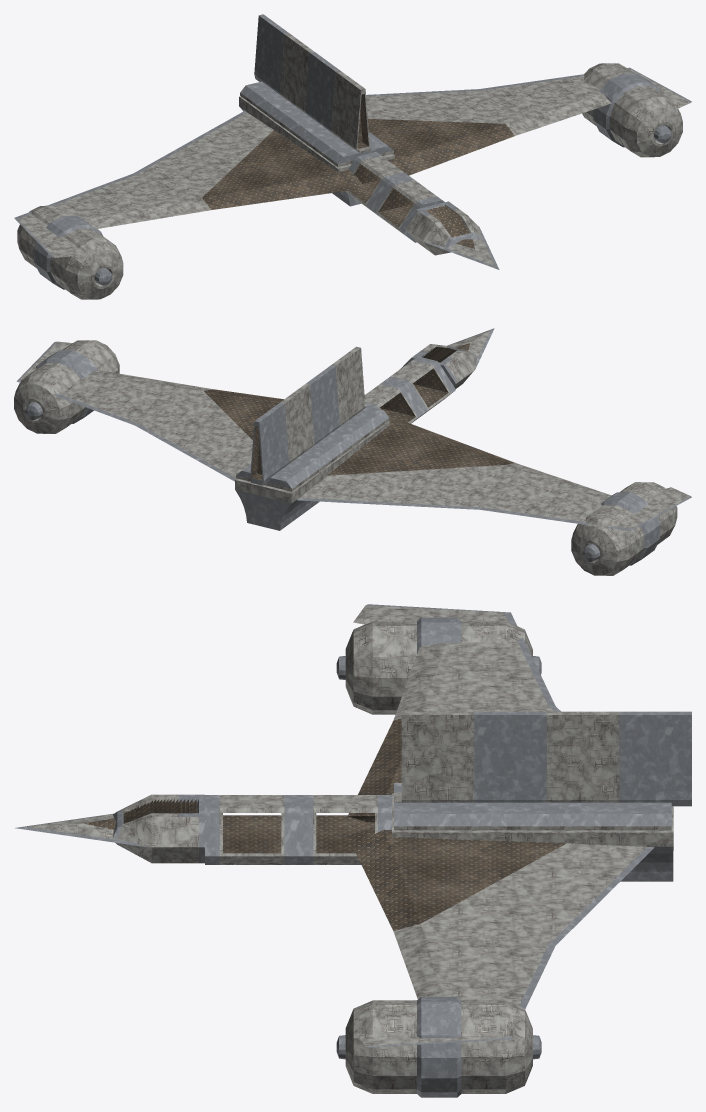
Rendered from rocket2.fbx.
3 renders of one model, top to bottom at view 1: azimuth 30°, elevation 25°; view 2: azimuth 150°, elevation 25°; view 3: azimuth 270°, elevation 25°, orthographic. The views are drawn at different scales.
Parts seen in each view (by area): view 1: mergedBlocks; view 2: mergedBlocks; view 3: mergedBlocks.
Part boxes in pixels (x1,y1,x2,y2): mergedBlocks: [14, 14, 691, 299]; mergedBlocks: [14, 328, 691, 575]; mergedBlocks: [15, 604, 691, 1097].
Bounding box in the file's own units: 112 × 22.89 × 72.42.
Materials: 3 (3 with a texture image).
